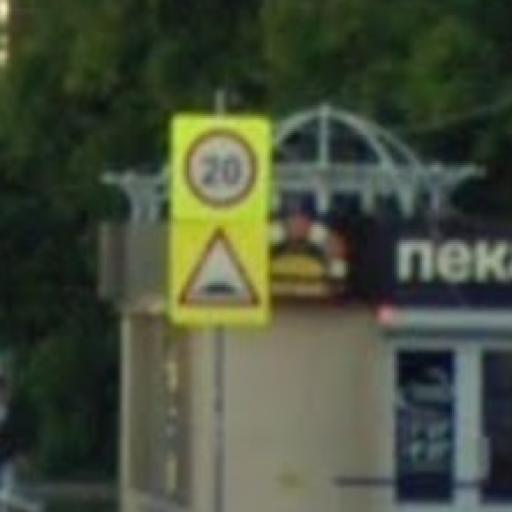traffic_sign: (176, 224, 266, 311), (181, 125, 261, 213)
